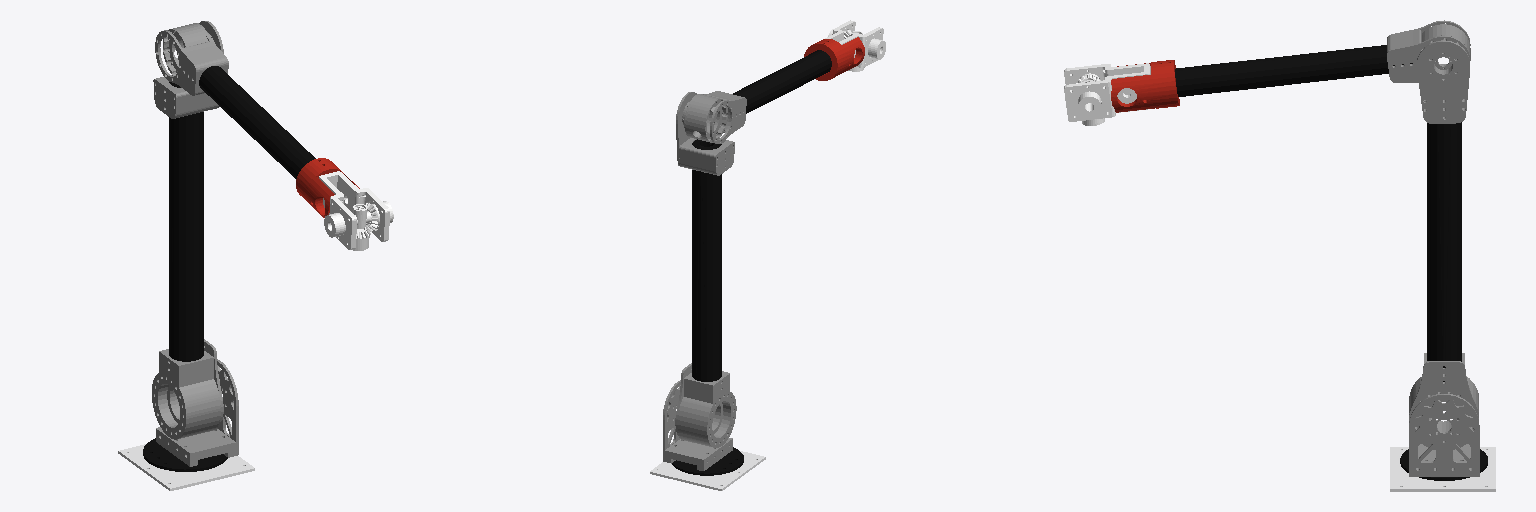
--- What the picture shows (computed from the rendered views, not written in the file) ---
The picture shows the robot from 3 angles, left to right: view 1: azimuth 30°, elevation 25°; view 2: azimuth 150°, elevation 25°; view 3: azimuth 270°, elevation 25°; orthographic projection.
Robot: manipulator1 — 22 links, 21 joints (6 revolute, 15 fixed); root link base_link; default pose: every joint at zero.
Visible links, largest first — view 1: link1, link2, outer_shaft1, link3, base_link, plate_support, link1_end_part, link3_holder, link1_holder, link2_side_plate22, base_plate, link1_side_plate1 (+2 smaller); view 2: link1, outer_shaft1, link2, base_link, link1_end_part, outer_shaft2, link3_holder, plate_support, link1_holder, link2_side_plate22, base_plate, link1_side_plate1 (+1 smaller); view 3: link1, link2, link1_side_plate1, link2_side_plate11, link3, link3_holder, base_link, link1_side_plate12, link2_side_plate_12, outer_shaft1, outer_shaft2.
Link boxes in pixels (left/top/right/bottom): link1: left=169, top=82, right=203, bottom=361; link2: left=199, top=66, right=315, bottom=178; outer_shaft1: left=152, top=372, right=220, bottom=439; link3: left=319, top=171, right=389, bottom=249; base_link: left=118, top=444, right=254, bottom=490; plate_support: left=156, top=427, right=235, bottom=466; link1_end_part: left=153, top=77, right=217, bottom=118; link3_holder: left=296, top=158, right=359, bottom=217; link1_holder: left=159, top=349, right=213, bottom=387; link2_side_plate22: left=155, top=30, right=198, bottom=95; base_plate: left=143, top=438, right=227, bottom=471; link1_side_plate1: left=217, top=359, right=238, bottom=455; link1: left=692, top=139, right=721, bottom=381; outer_shaft1: left=677, top=391, right=736, bottom=447; link2: left=733, top=50, right=831, bottom=113; base_link: left=650, top=451, right=765, bottom=490; link1_end_part: left=679, top=138, right=734, bottom=175; outer_shaft2: left=686, top=94, right=727, bottom=142; link3_holder: left=804, top=37, right=864, bottom=80; plate_support: left=665, top=438, right=732, bottom=470; link1_holder: left=684, top=371, right=729, bottom=403; link2_side_plate22: left=710, top=97, right=746, bottom=143; base_plate: left=672, top=447, right=743, bottom=475; link1_side_plate1: left=663, top=380, right=680, bottom=461; link1: left=1427, top=122, right=1461, bottom=381; link2: left=1175, top=45, right=1412, bottom=96; link1_side_plate1: left=1409, top=394, right=1479, bottom=476; link2_side_plate11: left=1417, top=40, right=1469, bottom=123; link3: left=1064, top=63, right=1150, bottom=121; link3_holder: left=1111, top=60, right=1179, bottom=112; base_link: left=1390, top=447, right=1495, bottom=491; link1_side_plate12: left=1409, top=361, right=1478, bottom=449; link2_side_plate_12: left=1387, top=35, right=1470, bottom=82; outer_shaft1: left=1409, top=376, right=1478, bottom=433; outer_shaft2: left=1421, top=24, right=1470, bottom=58.
Size in the robot's own frame: 0.17 by 0.7359 by 0.829 metres.
Meshes: 22 distinct files referenced, 22 mesh visuals loaded (22 binary STL).

URDF robot description (manipulator1):
<?xml version="1.0" encoding="utf-8"?>
<!-- This URDF was automatically created by SolidWorks to URDF Exporter! Originally created by Stephen Brawner ([email redacted]) 
     Commit Version: 1.6.0-4-g7f85cfe  Build Version: 1.6.7995.38578
     For more information, please see http://wiki.ros.org/sw_urdf_exporter -->
<robot
  name="manipulator1">
  <link
    name="base_link">
    <inertial>
      <origin
        xyz="-2.22044604925031E-16 -0.00224854905210781 4.44089209850063E-16"
        rpy="0 0 0" />
      <mass
        value="0.139707136084498" />
      <inertia
        ixx="0.000407966760717312"
        ixy="-2.98071223098969E-19"
        ixz="2.52359462446658E-18"
        iyy="0.000362153855961994"
        iyz="6.68817379847048E-18"
        izz="0.000769538503612287" />
    </inertial>
    <visual>
      <origin
        xyz="0 0 0"
        rpy="0 0 0" />
      <geometry>
        <mesh
          filename="package://manipulator1/meshes/base_link.STL" />
      </geometry>
      <material
        name="">
        <color
          rgba="0.96078431372549 0.96078431372549 0.964705882352941 1" />
      </material>
    </visual>
    <collision>
      <origin
        xyz="0 0 0"
        rpy="0 0 0" />
      <geometry>
        <mesh
          filename="package://manipulator1/meshes/base_link.STL" />
      </geometry>
    </collision>
  </link>
  <link
    name="base_plate">
    <inertial>
      <origin
        xyz="-1.22886286372248E-05 0 1.11022302462516E-16"
        rpy="0 0 0" />
      <mass
        value="0.0862820052494155" />
      <inertia
        ixx="0.000123802300064541"
        ixy="1.06663922016303E-19"
        ixz="8.84714563380274E-19"
        iyy="0.000121470538062705"
        iyz="2.03454754632287E-18"
        izz="0.00024491332977204" />
    </inertial>
    <visual>
      <origin
        xyz="0 0 0"
        rpy="0 0 0" />
      <geometry>
        <mesh
          filename="package://manipulator1/meshes/base_plate.STL" />
      </geometry>
      <material
        name="">
        <color
          rgba="0.0980392156862745 0.0980392156862745 0.0980392156862745 1" />
      </material>
    </visual>
    <collision>
      <origin
        xyz="0 0 0"
        rpy="0 0 0" />
      <geometry>
        <mesh
          filename="package://manipulator1/meshes/base_plate.STL" />
      </geometry>
    </collision>
  </link>
  <joint
    name="base_link_j_base_plate"
    type="revolute">
    <origin
      xyz="0 0 0.015"
      rpy="0 0 0" />
    <parent
      link="base_link" />
    <child
      link="base_plate" />
    <axis
      xyz="0 0 -1" />
    <limit
      lower="0"
      upper="6.28"
      effort="500"
      velocity="5" />
  </joint>
  <link
    name="plate_support">
    <inertial>
      <origin
        xyz="4.44089209850063E-16 0.0599999999999996 9.42699875334796E-05"
        rpy="0 0 0" />
      <mass
        value="0.20022424904567" />
      <inertia
        ixx="0.000252771572791514"
        ixy="-4.18218020954489E-19"
        ixz="1.13901000627266E-18"
        iyy="0.000176249764770248"
        iyz="4.112236499079E-18"
        izz="0.00041080341734212" />
    </inertial>
    <visual>
      <origin
        xyz="0 0 0"
        rpy="0 0 0" />
      <geometry>
        <mesh
          filename="package://manipulator1/meshes/plate_support.STL" />
      </geometry>
      <material
        name="">
        <color
          rgba="0.627450980392157 0.627450980392157 0.627450980392157 1" />
      </material>
    </visual>
    <collision>
      <origin
        xyz="0 0 0"
        rpy="0 0 0" />
      <geometry>
        <mesh
          filename="package://manipulator1/meshes/plate_support.STL" />
      </geometry>
    </collision>
  </link>
  <joint
    name="baseplate_j_plate_support"
    type="fixed">
    <origin
      xyz="0.0195 -0.06 0.018179"
      rpy="0 0 0" />
    <parent
      link="base_plate" />
    <child
      link="plate_support" />
    <axis
      xyz="0 0 0" />
  </joint>
  <link
    name="link1_side_plate1">
    <inertial>
      <origin
        xyz="4.44089209850063E-16 0.0150134261644279 0.0554613514893123"
        rpy="0 0 0" />
      <mass
        value="0.0682158367067577" />
      <inertia
        ixx="0.000205387282310402"
        ixy="-5.49279557105901E-19"
        ixz="-9.74556171742922E-19"
        iyy="0.000126772358326724"
        iyz="-1.08018754993082E-08"
        izz="7.88991566366221E-05" />
    </inertial>
    <visual>
      <origin
        xyz="0 0 0"
        rpy="0 0 0" />
      <geometry>
        <mesh
          filename="package://manipulator1/meshes/link1_side_plate1.STL" />
      </geometry>
      <material
        name="">
        <color
          rgba="0.627450980392157 0.627450980392157 0.627450980392157 1" />
      </material>
    </visual>
    <collision>
      <origin
        xyz="0 0 0"
        rpy="0 0 0" />
      <geometry>
        <mesh
          filename="package://manipulator1/meshes/link1_side_plate1.STL" />
      </geometry>
    </collision>
  </link>
  <joint
    name="plate_support_j_sideplate1"
    type="fixed">
    <origin
      xyz="0.0485 0.045 -0.00067857"
      rpy="0 0 0" />
    <parent
      link="plate_support" />
    <child
      link="link1_side_plate1" />
    <axis
      xyz="0 0 0" />
  </joint>
  <link
    name="link1_side_plate12">
    <inertial>
      <origin
        xyz="4.44089209850063E-16 4.44089209850063E-16 0.0310582864617434"
        rpy="0 0 0" />
      <mass
        value="0.0499638320857503" />
      <inertia
        ixx="0.000167600746600551"
        ixy="9.28776659826906E-21"
        ixz="-1.33327816191701E-19"
        iyy="0.000117287241228739"
        iyz="-7.43091486371195E-19"
        izz="5.05216880055031E-05" />
    </inertial>
    <visual>
      <origin
        xyz="0 0 0"
        rpy="0 0 0" />
      <geometry>
        <mesh
          filename="package://manipulator1/meshes/link1_side_plate12.STL" />
      </geometry>
      <material
        name="">
        <color
          rgba="0.627450980392157 0.627450980392157 0.627450980392157 1" />
      </material>
    </visual>
    <collision>
      <origin
        xyz="0 0 0"
        rpy="0 0 0" />
      <geometry>
        <mesh
          filename="package://manipulator1/meshes/link1_side_plate12.STL" />
      </geometry>
    </collision>
  </link>
  <joint
    name="side_plate1_j_side_plate12"
    type="revolute">
    <origin
      xyz="-0.03 0.015 0.08"
      rpy="0 0 0" />
    <parent
      link="link1_side_plate1" />
    <child
      link="link1_side_plate12" />
    <axis
      xyz="1 0 0" />
    <limit
      lower="-1.57"
      upper="1.57"
      effort="500"
      velocity="1" />
  </joint>
  <link
    name="outer_shaft1">
    <inertial>
      <origin
        xyz="-0.00772630874309455 4.44089209850063E-16 -1.11022302462516E-16"
        rpy="0 0 0" />
      <mass
        value="0.509143234421642" />
      <inertia
        ixx="0.00118267157071951"
        ixy="2.14660790273393E-19"
        ixz="-2.13692540459406E-19"
        iyy="0.000788001513669385"
        iyz="-2.07806932890846E-20"
        izz="0.000788001513669385" />
    </inertial>
    <visual>
      <origin
        xyz="0 0 0"
        rpy="0 0 0" />
      <geometry>
        <mesh
          filename="package://manipulator1/meshes/outer_shaft1.STL" />
      </geometry>
      <material
        name="">
        <color
          rgba="0.627450980392157 0.627450980392157 0.627450980392157 1" />
      </material>
    </visual>
    <collision>
      <origin
        xyz="0 0 0"
        rpy="0 0 0" />
      <geometry>
        <mesh
          filename="package://manipulator1/meshes/outer_shaft1.STL" />
      </geometry>
    </collision>
  </link>
  <joint
    name="side_plate12_j_outer_shaft1"
    type="fixed">
    <origin
      xyz="-0.028 0 0"
      rpy="0 0 0" />
    <parent
      link="link1_side_plate12" />
    <child
      link="outer_shaft1" />
    <axis
      xyz="0 0 0" />
  </joint>
  <link
    name="link1_holder">
    <inertial>
      <origin
        xyz="1.54143921293759E-07 -2.52144496393214E-08 -0.005799534584638"
        rpy="0 0 0" />
      <mass
        value="0.0841346188443606" />
      <inertia
        ixx="6.47642859009133E-05"
        ixy="8.23411710931886E-12"
        ixz="-1.08890847202512E-11"
        iyy="5.82653437006155E-05"
        iyz="2.9352113029424E-12"
        izz="0.000103444871427076" />
    </inertial>
    <visual>
      <origin
        xyz="0 0 0"
        rpy="0 0 0" />
      <geometry>
        <mesh
          filename="package://manipulator1/meshes/link1_holder.STL" />
      </geometry>
      <material
        name="">
        <color
          rgba="0.627450980392157 0.627450980392157 0.627450980392157 1" />
      </material>
    </visual>
    <collision>
      <origin
        xyz="0 0 0"
        rpy="0 0 0" />
      <geometry>
        <mesh
          filename="package://manipulator1/meshes/link1_holder.STL" />
      </geometry>
    </collision>
  </link>
  <joint
    name="outer_shaft1_j_link1_holder"
    type="fixed">
    <origin
      xyz="-0.0095001 0 0.076"
      rpy="0 0 0" />
    <parent
      link="outer_shaft1" />
    <child
      link="link1_holder" />
    <axis
      xyz="0 0 0" />
  </joint>
  <link
    name="link1">
    <inertial>
      <origin
        xyz="2.61491217568022E-09 -1.96853406908559E-08 -1.68497195167649E-05"
        rpy="0 0 0" />
      <mass
        value="1.16262072100795" />
      <inertia
        ixx="0.0294764673709808"
        ixy="-7.58278885604543E-09"
        ixz="3.71883808278725E-09"
        iyy="0.0294766181912142"
        iyz="5.34641410549775E-09"
        izz="0.000654113236445879" />
    </inertial>
    <visual>
      <origin
        xyz="0 0 0"
        rpy="0 0 0" />
      <geometry>
        <mesh
          filename="package://manipulator1/meshes/link1.STL" />
      </geometry>
      <material
        name="">
        <color
          rgba="0.0980392156862745 0.0980392156862745 0.0980392156862745 1" />
      </material>
    </visual>
    <collision>
      <origin
        xyz="0 0 0"
        rpy="0 0 0" />
      <geometry>
        <mesh
          filename="package://manipulator1/meshes/link1.STL" />
      </geometry>
    </collision>
  </link>
  <joint
    name="link1_holder_j_link1"
    type="fixed">
    <origin
      xyz="0 0 0.26095"
      rpy="0 0 0" />
    <parent
      link="link1_holder" />
    <child
      link="link1" />
    <axis
      xyz="0 0 0" />
  </joint>
  <link
    name="link1_end_part">
    <inertial>
      <origin
        xyz="-1.74060011626231E-07 1.57060774164108E-07 0.00113323234783302"
        rpy="0 0 0" />
      <mass
        value="0.171901132424438" />
      <inertia
        ixx="0.000147281829071962"
        ixy="-2.17389957093923E-11"
        ixz="-4.90680401859828E-10"
        iyy="0.000200174484694879"
        iyz="1.42730130731353E-09"
        izz="0.000271952693993483" />
    </inertial>
    <visual>
      <origin
        xyz="0 0 0"
        rpy="0 0 0" />
      <geometry>
        <mesh
          filename="package://manipulator1/meshes/link1_end_part.STL" />
      </geometry>
      <material
        name="">
        <color
          rgba="0.627450980392157 0.627450980392157 0.627450980392157 1" />
      </material>
    </visual>
    <collision>
      <origin
        xyz="0 0 0"
        rpy="0 0 0" />
      <geometry>
        <mesh
          filename="package://manipulator1/meshes/link1_end_part.STL" />
      </geometry>
    </collision>
  </link>
  <joint
    name="link1_J_end_part"
    type="fixed">
    <origin
      xyz="0 0 0.24912"
      rpy="0 0 0" />
    <parent
      link="link1" />
    <child
      link="link1_end_part" />
    <axis
      xyz="0 0 0" />
  </joint>
  <link
    name="link2_side_plate11">
    <inertial>
      <origin
        xyz="5.55111512312578E-16 -0.000621912582690287 0.0311549842986414"
        rpy="0 0 0" />
      <mass
        value="0.0528050348230078" />
      <inertia
        ixx="0.000126324772056133"
        ixy="1.50694660718213E-20"
        ixz="-5.54646076186613E-20"
        iyy="9.4701438016944E-05"
        iyz="1.25526676387361E-06"
        izz="3.18433550176184E-05" />
    </inertial>
    <visual>
      <origin
        xyz="0 0 0"
        rpy="0 0 0" />
      <geometry>
        <mesh
          filename="package://manipulator1/meshes/link2_side_plate11.STL" />
      </geometry>
      <material
        name="">
        <color
          rgba="0.627450980392157 0.627450980392157 0.627450980392157 1" />
      </material>
    </visual>
    <collision>
      <origin
        xyz="0 0 0"
        rpy="0 0 0" />
      <geometry>
        <mesh
          filename="package://manipulator1/meshes/link2_side_plate11.STL" />
      </geometry>
    </collision>
  </link>
  <joint
    name="end_part_j_side_plate11"
    type="fixed">
    <origin
      xyz="0.0455 0 0.015927"
      rpy="0 0 0" />
    <parent
      link="link1_end_part" />
    <child
      link="link2_side_plate11" />
    <axis
      xyz="0 0 0" />
  </joint>
  <link
    name="motor_holder">
    <inertial>
      <origin
        xyz="-0.00584650550007593 -2.22044604925031E-16 -4.44089209850063E-16"
        rpy="0 0 0" />
      <mass
        value="0.031956101125965" />
      <inertia
        ixx="1.46272579690827E-05"
        ixy="-3.04094854525027E-22"
        ixz="-1.34311000273746E-20"
        iyy="8.61130071305443E-06"
        iyz="2.56712386368993E-21"
        izz="8.61130071305441E-06" />
    </inertial>
    <visual>
      <origin
        xyz="0 0 0"
        rpy="0 0 0" />
      <geometry>
        <mesh
          filename="package://manipulator1/meshes/motor_holder.STL" />
      </geometry>
      <material
        name="">
        <color
          rgba="0.627450980392157 0.627450980392157 0.627450980392157 1" />
      </material>
    </visual>
    <collision>
      <origin
        xyz="0 0 0"
        rpy="0 0 0" />
      <geometry>
        <mesh
          filename="package://manipulator1/meshes/motor_holder.STL" />
      </geometry>
    </collision>
  </link>
  <joint
    name="link2_side_plate11_j_motor_holder"
    type="fixed">
    <origin
      xyz="-0.00675 -0.0013172 0.065987"
      rpy="0 0 0" />
    <parent
      link="link2_side_plate11" />
    <child
      link="motor_holder" />
    <axis
      xyz="0 0 0" />
  </joint>
  <link
    name="link2_side_plate_12">
    <inertial>
      <origin
        xyz="5.55111512312578E-16 -0.039717131815086 -0.00491984724371952"
        rpy="0 0 0" />
      <mass
        value="0.0287294522350535" />
      <inertia
        ixx="6.13941167735551E-05"
        ixy="3.3920635179007E-20"
        ixz="-6.2467002738095E-21"
        iyy="1.74811605790006E-05"
        iyz="-3.34024586969494E-06"
        izz="4.40326622455339E-05" />
    </inertial>
    <visual>
      <origin
        xyz="0 0 0"
        rpy="0 0 0" />
      <geometry>
        <mesh
          filename="package://manipulator1/meshes/link2_side_plate_12.STL" />
      </geometry>
      <material
        name="">
        <color
          rgba="0.627450980392157 0.627450980392157 0.627450980392157 1" />
      </material>
    </visual>
    <collision>
      <origin
        xyz="0 0 0"
        rpy="0 0 0" />
      <geometry>
        <mesh
          filename="package://manipulator1/meshes/link2_side_plate_12.STL" />
      </geometry>
    </collision>
  </link>
  <joint
    name="motor_holder_j_side_plate_12"
    type="revolute">
    <origin
      xyz="-0.01325 0 0"
      rpy="0 0 0" />
    <parent
      link="motor_holder" />
    <child
      link="link2_side_plate_12" />
    <axis
      xyz="-1 0 0" />
    <limit
      lower="-0.1"
      upper="1.57"
      effort="500"
      velocity="1" />
  </joint>
  <link
    name="outer_shaft2">
    <inertial>
      <origin
        xyz="-0.00185202704146603 -9.2405662460493E-05 6.41056320225264E-05"
        rpy="0 0 0" />
      <mass
        value="0.136055116672961" />
      <inertia
        ixx="0.000202629151935712"
        ixy="-4.64394915785094E-08"
        ixz="3.22327908017919E-08"
        iyy="0.000124866679772093"
        iyz="-5.47298364929438E-06"
        izz="0.000116146064523454" />
    </inertial>
    <visual>
      <origin
        xyz="0 0 0"
        rpy="0 0 0" />
      <geometry>
        <mesh
          filename="package://manipulator1/meshes/outer_shaft2.STL" />
      </geometry>
      <material
        name="">
        <color
          rgba="0.627450980392157 0.627450980392157 0.627450980392157 1" />
      </material>
    </visual>
    <collision>
      <origin
        xyz="0 0 0"
        rpy="0 0 0" />
      <geometry>
        <mesh
          filename="package://manipulator1/meshes/outer_shaft2.STL" />
      </geometry>
    </collision>
  </link>
  <joint
    name="link2_side_plate_j_outer_shaft2"
    type="fixed">
    <origin
      xyz="-0.019951 0 0"
      rpy="0 0 0" />
    <parent
      link="link2_side_plate_12" />
    <child
      link="outer_shaft2" />
    <axis
      xyz="0 0 0" />
  </joint>
  <link
    name="link2_side_plate22">
    <inertial>
      <origin
        xyz="3.33066907387547E-16 -0.0397171318150851 -0.00491984724371974"
        rpy="0 0 0" />
      <mass
        value="0.0287294522350539" />
      <inertia
        ixx="6.13941167735567E-05"
        ixy="1.26868156330376E-21"
        ixz="-3.27976997977857E-20"
        iyy="1.74811605790008E-05"
        iyz="-3.34024586969501E-06"
        izz="4.40326622455353E-05" />
    </inertial>
    <visual>
      <origin
        xyz="0 0 0"
        rpy="0 0 0" />
      <geometry>
        <mesh
          filename="package://manipulator1/meshes/link2_side_plate22.STL" />
      </geometry>
      <material
        name="">
        <color
          rgba="0.627450980392157 0.627450980392157 0.627450980392157 1" />
      </material>
    </visual>
    <collision>
      <origin
        xyz="0 0 0"
        rpy="0 0 0" />
      <geometry>
        <mesh
          filename="package://manipulator1/meshes/link2_side_plate22.STL" />
      </geometry>
    </collision>
  </link>
  <joint
    name="outer_shaft_j_side_plate22"
    type="fixed">
    <origin
      xyz="-0.040049 0 0"
      rpy="0 0 0" />
    <parent
      link="outer_shaft2" />
    <child
      link="link2_side_plate22" />
    <axis
      xyz="0 0 0" />
  </joint>
  <link
    name="link2_holder">
    <inertial>
      <origin
        xyz="2.0619170283398E-06 0.00813205255589899 0.0010073901871086"
        rpy="0 0 0" />
      <mass
        value="0.0930218057872073" />
      <inertia
        ixx="8.39198156970618E-05"
        ixy="-2.6718650837238E-09"
        ixz="-1.77919164025414E-10"
        iyy="9.05510577582414E-05"
        iyz="4.13970788127066E-06"
        izz="5.76455888171896E-05" />
    </inertial>
    <visual>
      <origin
        xyz="0 0 0"
        rpy="0 0 0" />
      <geometry>
        <mesh
          filename="package://manipulator1/meshes/link2_holder.STL" />
      </geometry>
      <material
        name="">
        <color
          rgba="0.627450980392157 0.627450980392157 0.627450980392157 1" />
      </material>
    </visual>
    <collision>
      <origin
        xyz="0 0 0"
        rpy="0 0 0" />
      <geometry>
        <mesh
          filename="package://manipulator1/meshes/link2_holder.STL" />
      </geometry>
    </collision>
  </link>
  <joint
    name="outer_shaft2_J_link2_holder"
    type="fixed">
    <origin
      xyz="-0.01005 -0.070375 -0.0087174"
      rpy="0 0 0" />
    <parent
      link="outer_shaft2" />
    <child
      link="link2_holder" />
    <axis
      xyz="0 0 0" />
  </joint>
  <link
    name="link2">
    <inertial>
      <origin
        xyz="3.32665672786447E-09 -6.24214728683903E-06 -7.73723946023708E-07"
        rpy="0 0 0" />
      <mass
        value="0.738793048590476" />
      <inertia
        ixx="0.0125139162815572"
        ixy="-2.37710463237503E-08"
        ixz="1.91853538131335E-07"
        iyy="0.000453023321934702"
        iyz="-0.00149413526024665"
        izz="0.0123298546752209" />
    </inertial>
    <visual>
      <origin
        xyz="0 0 0"
        rpy="0 0 0" />
      <geometry>
        <mesh
          filename="package://manipulator1/meshes/link2.STL" />
      </geometry>
      <material
        name="">
        <color
          rgba="0.0980392156862745 0.0980392156862745 0.0980392156862745 1" />
      </material>
    </visual>
    <collision>
      <origin
        xyz="0 0 0"
        rpy="0 0 0" />
      <geometry>
        <mesh
          filename="package://manipulator1/meshes/link2.STL" />
      </geometry>
    </collision>
  </link>
  <joint
    name="link2_holder_j_link2"
    type="fixed">
    <origin
      xyz="0 -0.19958 -0.024722"
      rpy="0 0 0" />
    <parent
      link="link2_holder" />
    <child
      link="link2" />
    <axis
      xyz="0 0 0" />
  </joint>
  <link
    name="link3_holder">
    <inertial>
      <origin
        xyz="-1.32817367659577E-07 -0.021143199221398 -0.00254036448894812"
        rpy="0 0 0" />
      <mass
        value="0.188164299848226" />
      <inertia
        ixx="0.000263210682129164"
        ixy="-1.24136411525225E-09"
        ixz="-5.02555876414802E-11"
        iyy="0.000219043978272138"
        iyz="-1.13273894097352E-05"
        izz="0.000310780367033102" />
    </inertial>
    <visual>
      <origin
        xyz="0 0 0"
        rpy="0 0 0" />
      <geometry>
        <mesh
          filename="package://manipulator1/meshes/link3_holder.STL" />
      </geometry>
      <material
        name="">
        <color
          rgba="0.768627450980392 0.207843137254902 0.152941176470588 1" />
      </material>
    </visual>
    <collision>
      <origin
        xyz="0 0 0"
        rpy="0 0 0" />
      <geometry>
        <mesh
          filename="package://manipulator1/meshes/link3_holder.STL" />
      </geometry>
    </collision>
  </link>
  <joint
    name="link2_j_link3_holder"
    type="fixed">
    <origin
      xyz="0 -0.20401 -0.025271"
      rpy="0 0 0" />
    <parent
      link="link2" />
    <child
      link="link3_holder" />
    <axis
      xyz="0 0 0" />
  </joint>
  <link
    name="link3">
    <inertial>
      <origin
        xyz="-0.0170000000959188 -0.0187763595650603 -0.00238682781019572"
        rpy="0 0 0" />
      <mass
        value="0.199449879103002" />
      <inertia
        ixx="0.000445645399692473"
        ixy="3.90013518644957E-12"
        ixz="-3.30846133775281E-11"
        iyy="0.000202127226065979"
        iyz="-3.54670309739077E-05"
        izz="0.000475268786200657" />
    </inertial>
    <visual>
      <origin
        xyz="0 0 0"
        rpy="0 0 0" />
      <geometry>
        <mesh
          filename="package://manipulator1/meshes/link3.STL" />
      </geometry>
      <material
        name="">
        <color
          rgba="1 1 1 0.35" />
      </material>
    </visual>
    <collision>
      <origin
        xyz="0 0 0"
        rpy="0 0 0" />
      <geometry>
        <mesh
          filename="package://manipulator1/meshes/link3.STL" />
      </geometry>
    </collision>
  </link>
  <joint
    name="link3_holder_j_link3"
    type="fixed">
    <origin
      xyz="0.0175 -0.064892 -0.0080382"
      rpy="0 0 0" />
    <parent
      link="link3_holder" />
    <child
      link="link3" />
    <axis
      xyz="0 0 0" />
  </joint>
  <link
    name="bevel1">
    <inertial>
      <origin
        xyz="-0.00377251446524274 1.29785737712496E-10 2.53810306105606E-11"
        rpy="0 0 0" />
      <mass
        value="0.04202578948651" />
      <inertia
        ixx="1.00438476344988E-05"
        ixy="7.48881130729221E-14"
        ixz="2.4373929310945E-14"
        iyy="9.98292053763495E-06"
        iyz="-2.10732752729565E-16"
        izz="9.98292054206863E-06" />
    </inertial>
    <visual>
      <origin
        xyz="0 0 0"
        rpy="0 0 0" />
      <geometry>
        <mesh
          filename="package://manipulator1/meshes/bevel1.STL" />
      </geometry>
      <material
        name="">
        <color
          rgba="1 1 1 0.35" />
      </material>
    </visual>
    <collision>
      <origin
        xyz="0 0 0"
        rpy="0 0 0" />
      <geometry>
        <mesh
          filename="package://manipulator1/meshes/bevel1.STL" />
      </geometry>
    </collision>
  </link>
  <joint
    name="link3_j_bevel1"
    type="revolute">
    <origin
      xyz="0.026096 -0.064131 -0.0081052"
      rpy="0 0 0" />
    <parent
      link="link3" />
    <child
      link="bevel1" />
    <axis
      xyz="-1 0 0" />
    <limit
      lower="0"
      upper="6.28"
      effort="500"
      velocity="1" />
  </joint>
  <link
    name="bevelcoupler">
    <inertial>
      <origin
        xyz="-0.000201386284989447 0.00031529999168578 -0.00362440249815354"
        rpy="0 0 0" />
      <mass
        value="0.0209029839604551" />
      <inertia
        ixx="2.55772080126936E-06"
        ixy="1.1001983416562E-09"
        ixz="-1.33971276273617E-08"
        iyy="3.89976175675072E-06"
        iyz="1.05518303528261E-07"
        izz="3.02571078727523E-06" />
    </inertial>
    <visual>
      <origin
        xyz="0 0 0"
        rpy="0 0 0" />
      <geometry>
        <mesh
          filename="package://manipulator1/meshes/bevelcoupler.STL" />
      </geometry>
      <material
        name="">
        <color
          rgba="1 1 1 0.35" />
      </material>
    </visual>
    <collision>
      <origin
        xyz="0 0 0"
        rpy="0 0 0" />
      <geometry>
        <mesh
          filename="package://manipulator1/meshes/bevelcoupler.STL" />
      </geometry>
    </collision>
  </link>
  <joint
    name="bevel1_j_bevel_coupler"
    type="revolute">   <!-- modification : revolute -> fixed -->
    <origin
      xyz="-0.041897 -0.00059194 0.0068096"
      rpy="0 0 0" />
    <parent
      link="bevel1" />
    <child
      link="bevelcoupler" />
    <axis
      xyz="0 -0.12293 0.99242" />
    <limit
      lower="0"
      upper="6.28"
      effort="20"
      velocity="1" />
  </joint>
  <link
    name="bevel2">
    <inertial>
      <origin
        xyz="0.00377251446525584 3.00959257515387E-12 -1.79158243795996E-10"
        rpy="0 0 0" />
      <mass
        value="0.0420257894865733" />
      <inertia
        ixx="1.00438476345E-05"
        ixy="9.6485284525207E-15"
        ixz="9.55249388963063E-14"
        iyy="9.98292053764471E-06"
        iyz="1.14958570656255E-16"
        izz="9.98292054206497E-06" />
    </inertial>
    <visual>
      <origin
        xyz="0 0 0"
        rpy="0 0 0" />
      <geometry>
        <mesh
          filename="package://manipulator1/meshes/bevel2.STL" />
      </geometry>
      <material
        name="">
        <color
          rgba="1 1 1 0.35" />
      </material>
    </visual>
    <collision>
      <origin
        xyz="0 0 0"
        rpy="0 0 0" />
      <geometry>
        <mesh
          filename="package://manipulator1/meshes/bevel2.STL" />
      </geometry>
    </collision>
  </link>
  <joint
    name="bevel_coupler_j_bevel2"
    type="revolute">    <!-- modification : revolute -> fixed -->
    <origin
      xyz="-0.044295 0.00059194 -0.0068096"
      rpy="0 0 0" />
    <parent
      link="bevelcoupler" />
    <child
      link="bevel2" />
    <axis
      xyz="-1 0 0" />
    <limit
      lower="0"
      upper="6.28"
      effort="20"
      velocity="1" />
  </joint>
    <joint
      name="bevel_coupler_j_bevel3"
      type="fixed">
      <origin
        xyz="0 0.0057785 -0.047208"
        rpy="1.5708 0 0" />
      <parent
        link="bevelcoupler" />
      <child
        link="bevel3" />
      <axis
        xyz="0 0 0" />
    </joint>
  <link
    name="bevel3">
    <inertial>
      <origin
        xyz="-2.57327004149488E-09 0.00344285390081533 0.000426473476989209"
        rpy="0 0 0" />
      <mass
        value="0.0416503672050657" />
      <inertia
        ixx="7.91937238183527E-06"
        ixy="1.16877699647925E-12"
        ixz="1.7608970145984E-13"
        iyy="8.58962156346542E-06"
        iyz="8.30255366944487E-08"
        izz="7.92965699118821E-06" />
    </inertial>
    <visual>
      <origin
        xyz="0 0 0"
        rpy="0 0 0" />
      <geometry>
        <mesh
          filename="package://manipulator1/meshes/bevel3.STL" />
      </geometry>
      <material
        name="">
        <color
          rgba="1 1 1 0.35" />
      </material>
    </visual>
    <collision>
      <origin
        xyz="0 0 0"
        rpy="0 0 0" />
      <geometry>
        <mesh
          filename="package://manipulator1/meshes/bevel3.STL" />
      </geometry>
    </collision>
  </link>
</robot>
